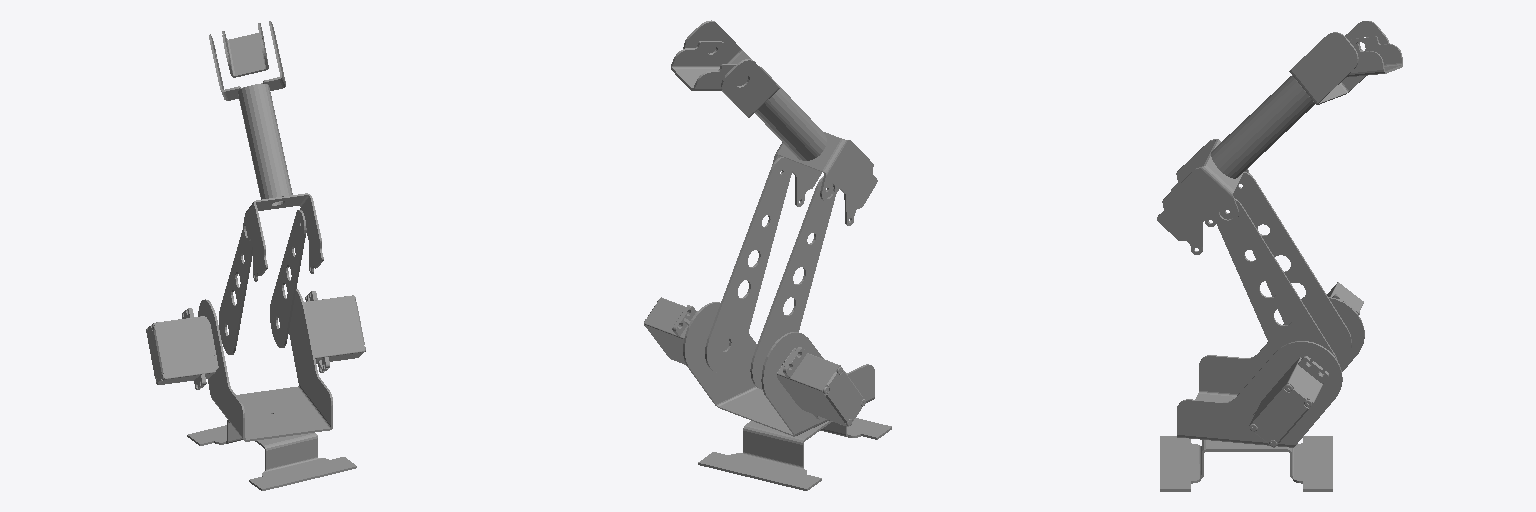
URDF robot description (CR168):
<?xml version="1.0" encoding="utf-8"?>
<!-- This URDF was automatically created by SolidWorks to URDF Exporter! Originally created by [author] ([email redacted])
     Commit Version: 1.6.0-1-g15f4949  Build Version: 1.6.7594.29634
     For more information, please see http://wiki.ros.org/sw_urdf_exporter -->
<robot
  name="CR168">
  <link
    name="base_Link">
    <inertial>
      <origin
        xyz="0.0375 0.00734688456192442 1.24826504699513E-09"
        rpy="0 0 0" />
      <mass
        value="0.010277230998552" />
      <inertia
        ixx="1.092531894428E-05"
        ixy="1.4467160407856E-21"
        ixz="-2.20849246804654E-13"
        iyy="1.30777709748279E-05"
        iyz="1.98533463602263E-13"
        izz="3.52427256535382E-06" />
    </inertial>
    <visual>
      <origin
        xyz="0 0 0"
        rpy="0 0 0" />
      <geometry>
        <mesh
          filename="package://Rameno_sestava.SLDASM/meshes/base_Link.STL" />
      </geometry>
      <material
        name="">
        <color
          rgba="0.627450980392157 0.627450980392157 0.627450980392157 1" />
      </material>
    </visual>
    <collision>
      <origin
        xyz="0 0 0"
        rpy="0 0 0" />
      <geometry>
        <mesh
          filename="package://Rameno_sestava.SLDASM/meshes/base_Link.STL" />
      </geometry>
    </collision>
  </link>
  <link
    name="Rotating_base_Link">
    <inertial>
      <origin
        xyz="-0.0310067493964589 0.0356912345580542 -1.40021952366176E-11"
        rpy="0 0 0" />
      <mass
        value="0.0842744537549328" />
      <inertia
        ixx="3.72775016732398E-05"
        ixy="9.39829888441467E-06"
        ixz="3.46042252569305E-10"
        iyy="3.97404908918724E-05"
        iyz="2.56760938255436E-10"
        izz="3.12686222723885E-05" />
    </inertial>
    <visual>
      <origin
        xyz="0 0 0"
        rpy="0 0 0" />
      <geometry>
        <mesh
          filename="package://Rameno_sestava.SLDASM/meshes/Rotating_base_Link.STL" />
      </geometry>
      <material
        name="">
        <color
          rgba="0.627450980392157 0.627450980392157 0.627450980392157 1" />
      </material>
    </visual>
    <collision>
      <origin
        xyz="0 0 0"
        rpy="0 0 0" />
      <geometry>
        <mesh
          filename="package://Rameno_sestava.SLDASM/meshes/Rotating_base_Link.STL" />
      </geometry>
    </collision>
  </link>
  <joint
    name="Rotating_base_Joint"
    type="revolute">
    <origin
      xyz="0.0375 0 0.02725"
      rpy="1.5708 0 -1.7801" />
    <parent
      link="base_Link" />
    <child
      link="Rotating_base_Link" />
    <axis
      xyz="0 1 0" />
    <limit
      lower="-0.99466"
      upper="3.7177"
      effort="0"
      velocity="0" />
  </joint>
  <link
    name="First_arm_Link">
    <inertial>
      <origin
        xyz="0.0437860972682325 -6.93889390390723E-17 0.00326140914475796"
        rpy="0 0 0" />
      <mass
        value="0.00971683868174796" />
      <inertia
        ixx="7.83831769487946E-07"
        ixy="-4.2086949566698E-21"
        ixz="-9.69461623635794E-07"
        iyy="1.45073308706587E-05"
        iyz="-1.6940658945086E-21"
        izz="1.37271429156764E-05" />
    </inertial>
    <visual>
      <origin
        xyz="0 0 0"
        rpy="0 0 0" />
      <geometry>
        <mesh
          filename="package://Rameno_sestava.SLDASM/meshes/First_arm_Link.STL" />
      </geometry>
      <material
        name="">
        <color
          rgba="0.627450980392157 0.627450980392157 0.627450980392157 1" />
      </material>
    </visual>
    <collision>
      <origin
        xyz="0 0 0"
        rpy="0 0 0" />
      <geometry>
        <mesh
          filename="package://Rameno_sestava.SLDASM/meshes/First_arm_Link.STL" />
      </geometry>
    </collision>
  </link>
  <joint
    name="First_arm_Joint"
    type="revolute">
    <origin
      xyz="-0.041953 0.04825 0"
      rpy="-1.5708 0 1.0223" />
    <parent
      link="Rotating_base_Link" />
    <child
      link="First_arm_Link" />
    <axis
      xyz="0 1 0" />
    <limit
      lower="-2.1451"
      upper="1.171"
      effort="0"
      velocity="0" />
  </joint>
  <link
    name="Second_arm_Link">
    <inertial>
      <origin
        xyz="0.00025004731122083 0.0160527989756333 -0.00621904010911814"
        rpy="0 0 0" />
      <mass
        value="0.00540843852447768" />
      <inertia
        ixx="1.72506728064076E-06"
        ixy="2.22046609719669E-13"
        ixz="-2.60877877238601E-12"
        iyy="3.12175046483521E-06"
        iyz="-1.12477213972645E-07"
        izz="2.26920711165746E-06" />
    </inertial>
    <visual>
      <origin
        xyz="0 0 0"
        rpy="0 0 0" />
      <geometry>
        <mesh
          filename="package://Rameno_sestava.SLDASM/meshes/Second_arm_Link.STL" />
      </geometry>
      <material
        name="">
        <color
          rgba="0.627450980392157 0.627450980392157 0.627450980392157 1" />
      </material>
    </visual>
    <collision>
      <origin
        xyz="0 0 0"
        rpy="0 0 0" />
      <geometry>
        <mesh
          filename="package://Rameno_sestava.SLDASM/meshes/Second_arm_Link.STL" />
      </geometry>
    </collision>
  </link>
  <joint
    name="Second_arm_Joint"
    type="revolute">
    <origin
      xyz="0.108 0 0.0080444"
      rpy="-0.29468 0 -1.5708" />
    <parent
      link="First_arm_Link" />
    <child
      link="Second_arm_Link" />
    <axis
      xyz="1 0 0" />
    <limit
      lower="-0.83978"
      upper="0.99282"
      effort="0"
      velocity="0" />
  </joint>
  <link
    name="Barrel_part_Link">
    <inertial>
      <origin
        xyz="0.000250002003399863 -0.00152313111878316 -0.0785733559312348"
        rpy="0 0 0" />
      <mass
        value="0.00989593755673276" />
      <inertia
        ixx="4.34247891884215E-06"
        ixy="-7.69874870075889E-10"
        ixz="3.92689246468547E-08"
        iyy="5.68213593986647E-06"
        iyz="2.00120730440082E-08"
        izz="2.42783408470459E-06" />
    </inertial>
    <visual>
      <origin
        xyz="0 0 0"
        rpy="0 0 0" />
      <geometry>
        <mesh
          filename="package://Rameno_sestava.SLDASM/meshes/Barrel_part_Link.STL" />
      </geometry>
      <material
        name="">
        <color
          rgba="0.627450980392157 0.627450980392157 0.627450980392157 1" />
      </material>
    </visual>
    <collision>
      <origin
        xyz="0 0 0"
        rpy="0 0 0" />
      <geometry>
        <mesh
          filename="package://Rameno_sestava.SLDASM/meshes/Barrel_part_Link.STL" />
      </geometry>
    </collision>
  </link>
  <joint
    name="Barrel_part_Joint"
    type="revolute">
    <origin
      xyz="0.00025 0.0187 0"
      rpy="-3.1416 0 2.8007" />
    <parent
      link="Second_arm_Link" />
    <child
      link="Barrel_part_Link" />
    <axis
      xyz="0 0 1" />
    <limit
      lower="-2.6971"
      upper="2.0153"
      effort="0"
      velocity="0" />
  </joint>
  <link
    name="End_point_Link">
    <inertial>
      <origin
        xyz="-2.22044604925031E-16 -0.00570377926609689 0.00939618564437633"
        rpy="0 0 0" />
      <mass
        value="0.00307447825496952" />
      <inertia
        ixx="4.4824017317466E-07"
        ixy="3.49070218497378E-22"
        ixz="3.57342024622908E-22"
        iyy="6.59712013045634E-07"
        iyz="-7.88806742587389E-08"
        izz="4.52524113194771E-07" />
    </inertial>
    <visual>
      <origin
        xyz="0 0 0"
        rpy="0 0 0" />
      <geometry>
        <mesh
          filename="package://Rameno_sestava.SLDASM/meshes/End_point_Link.STL" />
      </geometry>
      <material
        name="">
        <color
          rgba="0.627450980392157 0.627450980392157 0.627450980392157 1" />
      </material>
    </visual>
    <collision>
      <origin
        xyz="0 0 0"
        rpy="0 0 0" />
      <geometry>
        <mesh
          filename="package://Rameno_sestava.SLDASM/meshes/End_point_Link.STL" />
      </geometry>
    </collision>
  </link>
  <joint
    name="End_point_Joint"
    type="revolute">
    <origin
      xyz="0 -0.003 -0.12435"
      rpy="-2.1581 0 -3.1416" />
    <parent
      link="Barrel_part_Link" />
    <child
      link="End_point_Link" />
    <axis
      xyz="1 0 0" />
    <limit
      lower="-0.98347"
      upper="2.1581"
      effort="0"
      velocity="0" />
  </joint>
</robot>

--- Render facts (derived) ---
3 views of the same robot in one strip: view 1: azimuth 30°, elevation 25°; view 2: azimuth 150°, elevation 25°; view 3: azimuth 270°, elevation 25° (orthographic).
Model CR168 with 6 links and 5 joints (5 revolute), rooted at base_Link, posed every joint at zero.
Links seen in each view (by area): view 1: Rotating_base_Link, Barrel_part_Link, First_arm_Link, base_Link, Second_arm_Link, End_point_Link; view 2: Rotating_base_Link, First_arm_Link, Barrel_part_Link, base_Link, Second_arm_Link, End_point_Link; view 3: Rotating_base_Link, First_arm_Link, Barrel_part_Link, base_Link, Second_arm_Link, End_point_Link.
Link boxes in pixels (x1,y1,x2,y2): Rotating_base_Link: (146, 289, 365, 441); Barrel_part_Link: (209, 21, 292, 203); First_arm_Link: (219, 210, 306, 354); base_Link: (187, 420, 356, 490); Second_arm_Link: (243, 193, 323, 281); End_point_Link: (222, 23, 268, 77); Rotating_base_Link: (644, 297, 874, 436); First_arm_Link: (705, 157, 835, 389); Barrel_part_Link: (683, 20, 826, 160); base_Link: (698, 418, 891, 490); Second_arm_Link: (772, 132, 877, 225); End_point_Link: (671, 41, 747, 90); Rotating_base_Link: (1177, 282, 1364, 447); First_arm_Link: (1213, 172, 1351, 363); Barrel_part_Link: (1211, 21, 1389, 178); base_Link: (1160, 436, 1332, 491); Second_arm_Link: (1157, 139, 1249, 254); End_point_Link: (1346, 36, 1402, 77).
Size in the robot's own frame: 0.1497 by 0.1458 by 0.2951 metres.
Meshes: 6 distinct files referenced, 6 mesh visuals loaded (6 binary STL).